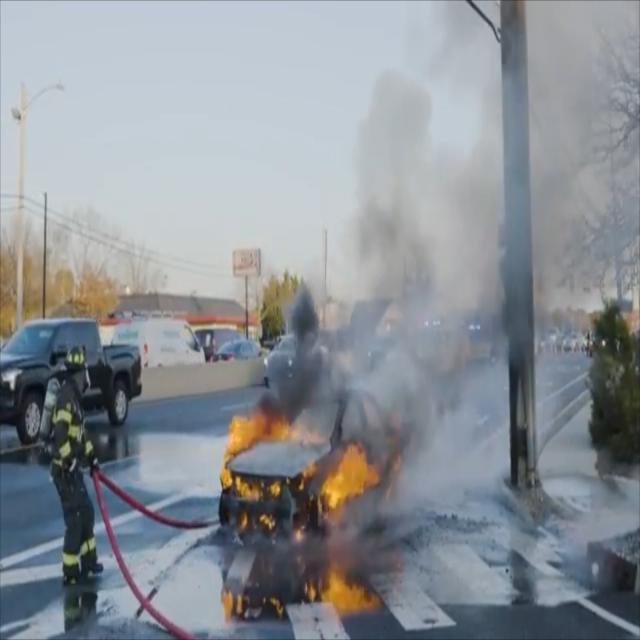fire: (216, 374, 400, 540), (224, 572, 370, 624)
